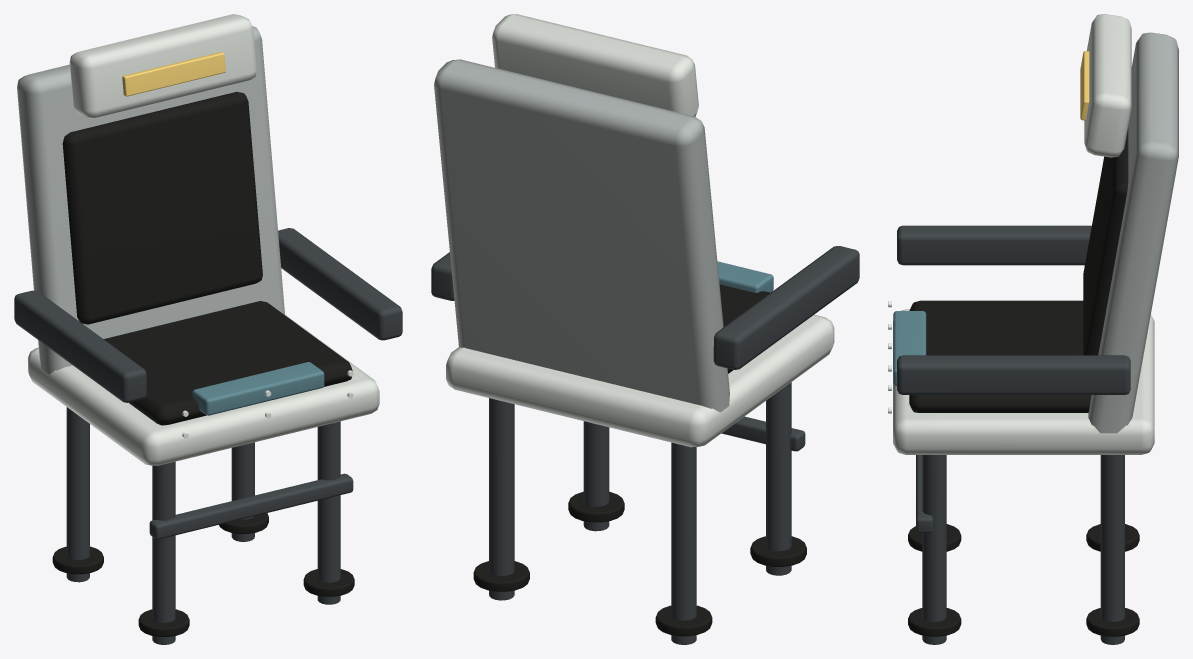
The model's file is hp_room_chair_service.glb.
3 views of the same model, side by side, from view 1: azimuth 30°, elevation 25°; view 2: azimuth 150°, elevation 25°; view 3: azimuth 270°, elevation 25° (orthographic). The views are drawn at different scales.
Visible parts, largest first — view 1: room_chair_service_back_soft_pad, room_chair_service_back_panel, room_chair_service_seat_pad, room_chair_service_body_seat, room_chair_service_head_rest_small, room_chair_service_side_arm_l, room_chair_service_side_arm_r, room_chair_service_front_crossbar, room_chair_service_seat_color_insert_art_color_block, room_chair_service_leg_l_b, room_chair_service_leg_l_f, room_chair_service_leg_r_f (+6 smaller); view 2: room_chair_service_back_panel, room_chair_service_body_seat, room_chair_service_head_rest_small, room_chair_service_side_arm_l, room_chair_service_leg_l_b, room_chair_service_leg_r_b, room_chair_service_leg_l_f, room_chair_service_leg_r_f, room_chair_service_seat_color_insert_art_color_block, room_chair_service_foot_pad_l_b, room_chair_service_foot_pad_r_f, room_chair_service_foot_pad_r_b (+4 smaller); view 3: room_chair_service_back_panel, room_chair_service_seat_pad, room_chair_service_body_seat, room_chair_service_side_arm_r, room_chair_service_side_arm_l, room_chair_service_head_rest_small, room_chair_service_back_soft_pad, room_chair_service_leg_r_b, room_chair_service_leg_r_f, room_chair_service_seat_color_insert_art_color_block, room_chair_service_foot_pad_r_f, room_chair_service_foot_pad_r_b (+4 smaller).
Part boxes in pixels (box(x1,y1,x2,y2)): room_chair_service_back_soft_pad: box(62, 91, 262, 324); room_chair_service_back_panel: box(17, 26, 284, 374); room_chair_service_seat_pad: box(103, 301, 352, 425); room_chair_service_body_seat: box(28, 314, 379, 465); room_chair_service_head_rest_small: box(69, 14, 256, 118); room_chair_service_side_arm_l: box(14, 290, 146, 402); room_chair_service_side_arm_r: box(278, 228, 402, 340); room_chair_service_front_crossbar: box(149, 473, 353, 539); room_chair_service_seat_color_insert_art_color_block: box(192, 362, 324, 415); room_chair_service_leg_l_b: box(66, 407, 89, 582); room_chair_service_leg_l_f: box(152, 461, 175, 644); room_chair_service_leg_r_f: box(317, 421, 340, 604); room_chair_service_back_panel: box(434, 59, 729, 412); room_chair_service_body_seat: box(446, 314, 834, 447); room_chair_service_head_rest_small: box(492, 14, 698, 116); room_chair_service_side_arm_l: box(713, 246, 859, 369); room_chair_service_leg_l_b: box(671, 442, 696, 644); room_chair_service_leg_r_b: box(489, 398, 514, 600); room_chair_service_leg_l_f: box(766, 382, 791, 575); room_chair_service_leg_r_f: box(583, 421, 609, 531); room_chair_service_seat_color_insert_art_color_block: box(717, 261, 773, 292); room_chair_service_foot_pad_l_b: box(655, 605, 712, 636); room_chair_service_foot_pad_r_f: box(568, 491, 624, 522); room_chair_service_foot_pad_r_b: box(473, 561, 529, 591); room_chair_service_back_panel: box(1088, 32, 1178, 433); room_chair_service_seat_pad: box(909, 300, 1091, 412); room_chair_service_body_seat: box(893, 309, 1154, 454); room_chair_service_side_arm_r: box(897, 355, 1130, 394); room_chair_service_side_arm_l: box(897, 225, 1091, 265); room_chair_service_head_rest_small: box(1084, 14, 1131, 157); room_chair_service_back_soft_pad: box(1083, 127, 1128, 355); room_chair_service_leg_r_b: box(1100, 455, 1124, 644); room_chair_service_leg_r_f: box(922, 455, 946, 644); room_chair_service_seat_color_insert_art_color_block: box(893, 311, 926, 385); room_chair_service_foot_pad_r_f: box(908, 608, 961, 636); room_chair_service_foot_pad_r_b: box(1086, 608, 1139, 636).
Bounding box in the file's own units: 0.679 × 1.21 × 0.5867.
